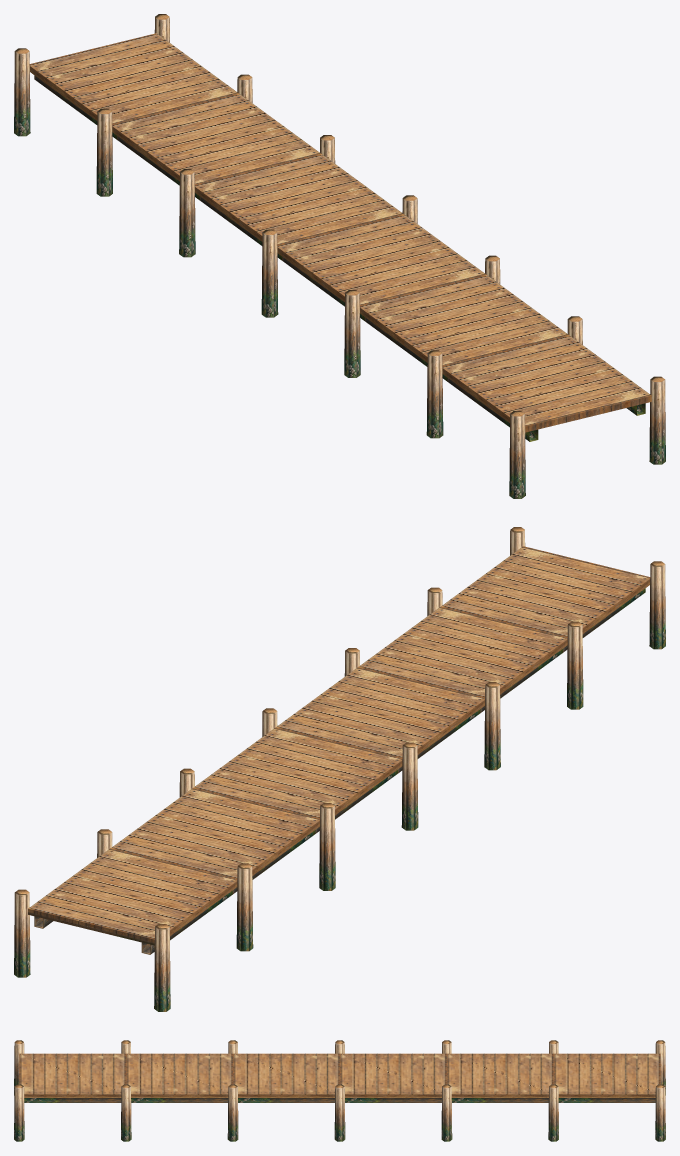
The model's file is pier.glb.
The picture shows the model from 3 angles, top to bottom: view 1: azimuth 30°, elevation 25°; view 2: azimuth 150°, elevation 25°; view 3: azimuth 270°, elevation 25°; orthographic projection. The views are drawn at different scales.
Visible parts, largest first — view 1: GEO-pier; view 2: GEO-pier; view 3: GEO-pier.
Part boxes in pixels (x1,y1,x2,y2): GEO-pier: (14,14,665,498); GEO-pier: (14,527,665,1011); GEO-pier: (14,1040,665,1141).
Size of the model in its own units: 2.13 by 1.1 by 12.2.
Materials: 1 (1 with a texture image).
